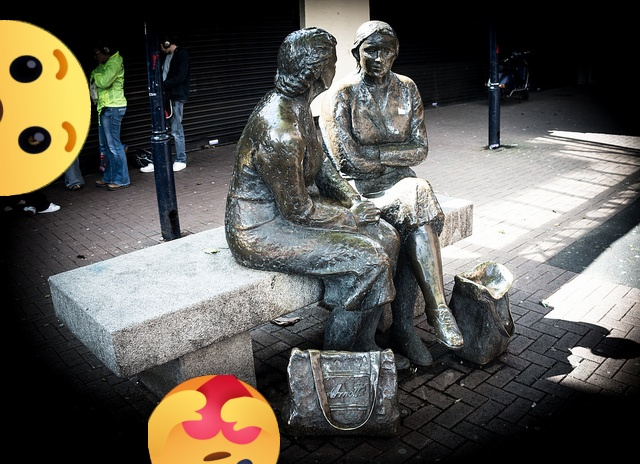care: (148, 375, 280, 464)
wow: (0, 20, 91, 196)
